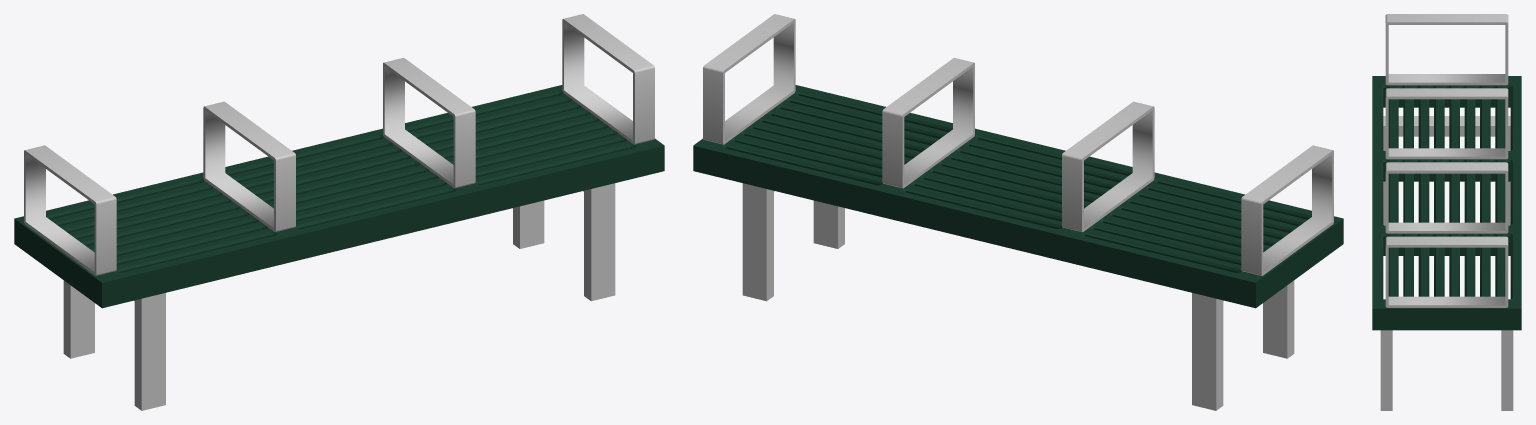
3 renders of one model, left to right at view 1: azimuth 30°, elevation 25°; view 2: azimuth 150°, elevation 25°; view 3: azimuth 270°, elevation 25°, orthographic. The views are drawn at different scales.
Parts seen in each view (by area): view 1: mesh1_mesh1-geometry, mesh64_mesh64-geometry, mesh57_mesh57-geometry; view 2: mesh1_mesh1-geometry, mesh64_mesh64-geometry, mesh57_mesh57-geometry; view 3: mesh1_mesh1-geometry, mesh64_mesh64-geometry, mesh57_mesh57-geometry, mesh59_mesh59-geometry.
Part boxes in pixels (<box>): mesh1_mesh1-geometry: <box>14,85,664,308</box>; mesh64_mesh64-geometry: <box>24,14,654,275</box>; mesh57_mesh57-geometry: <box>63,183,615,410</box>; mesh1_mesh1-geometry: <box>693,85,1343,308</box>; mesh64_mesh64-geometry: <box>703,14,1333,275</box>; mesh57_mesh57-geometry: <box>742,183,1294,410</box>; mesh1_mesh1-geometry: <box>1372,76,1521,330</box>; mesh64_mesh64-geometry: <box>1385,14,1508,307</box>; mesh57_mesh57-geometry: <box>1380,129,1513,410</box>; mesh59_mesh59-geometry: <box>1383,116,1510,136</box>.
Size of the model in its own units: 0.9096 by 0.3346 by 0.2462.
